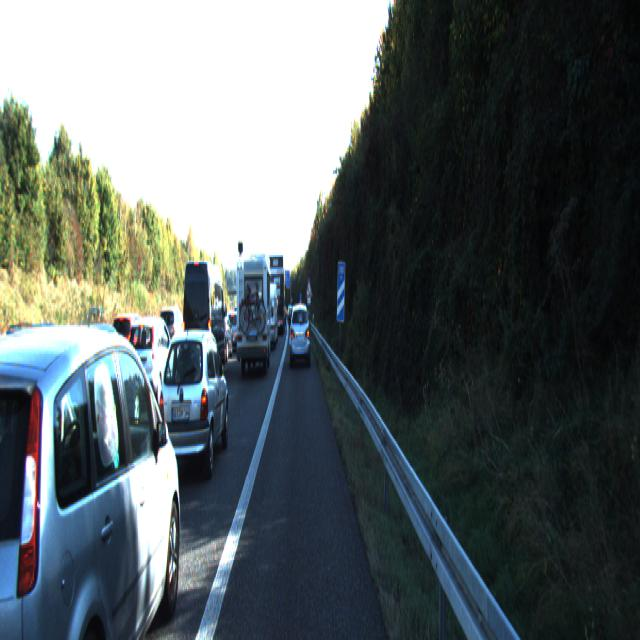Car: (0, 317, 186, 638), (38, 321, 144, 474), (155, 324, 230, 484), (0, 321, 85, 433), (180, 259, 226, 383), (124, 313, 178, 410), (236, 255, 272, 376), (105, 315, 155, 388), (158, 307, 188, 363), (256, 282, 278, 353), (289, 301, 310, 366), (208, 310, 233, 362), (268, 254, 284, 334)
